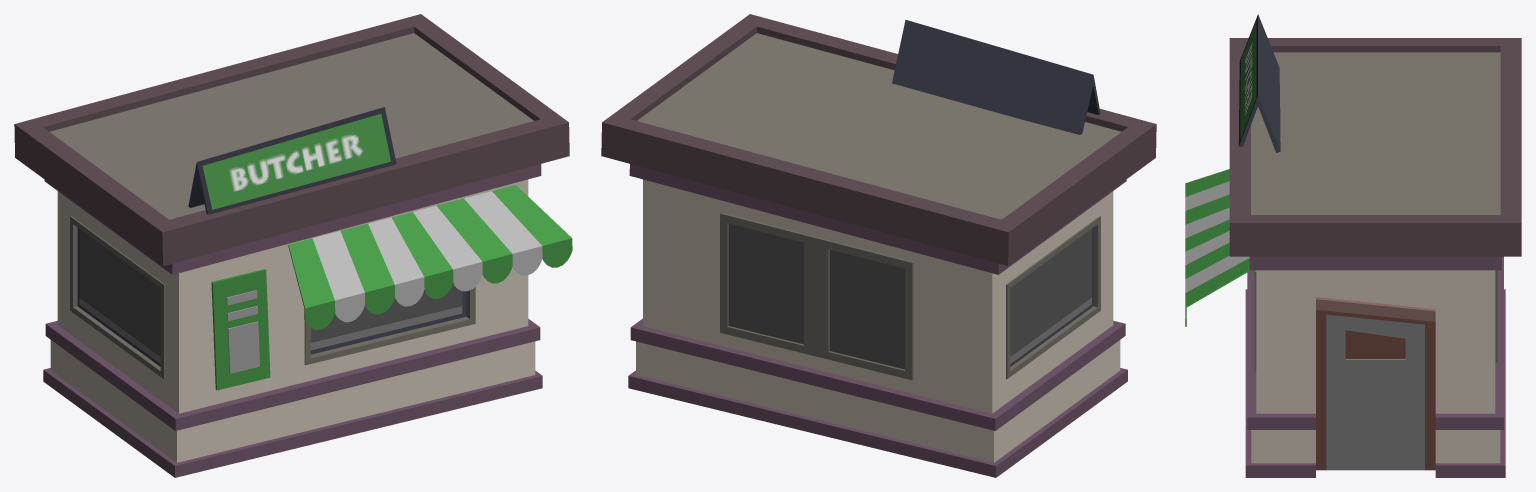
The model's file is butcher03_color03.fbx.
3 renders of one model, left to right at view 1: azimuth 30°, elevation 25°; view 2: azimuth 150°, elevation 25°; view 3: azimuth 270°, elevation 25°, orthographic.
Parts seen in each view (by area): view 1: butcher03_color03; view 2: butcher03_color03; view 3: butcher03_color03.
Boxes of the visible parts, left/top/right/bottom form: butcher03_color03: left=14, top=14, right=572, bottom=477; butcher03_color03: left=601, top=14, right=1156, bottom=477; butcher03_color03: left=1185, top=14, right=1521, bottom=477.
Bounding box in the file's own units: 805 × 592 × 584.
